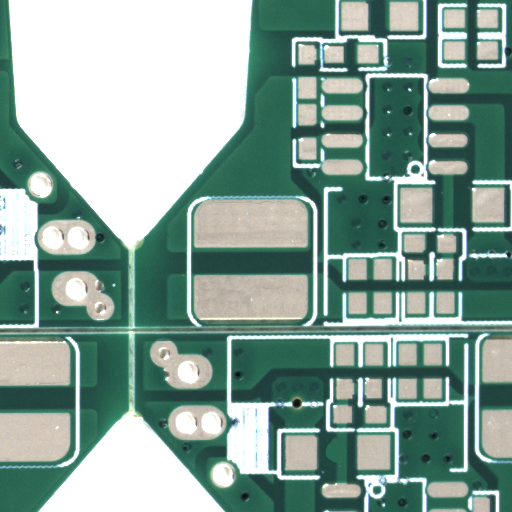Spur: (331, 450, 343, 475)
